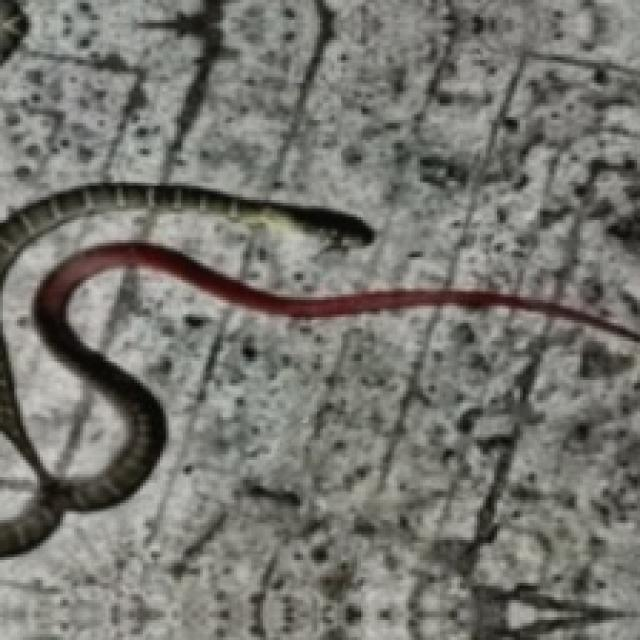reddish rat snake: (0, 240, 637, 554), (0, 183, 371, 286)
